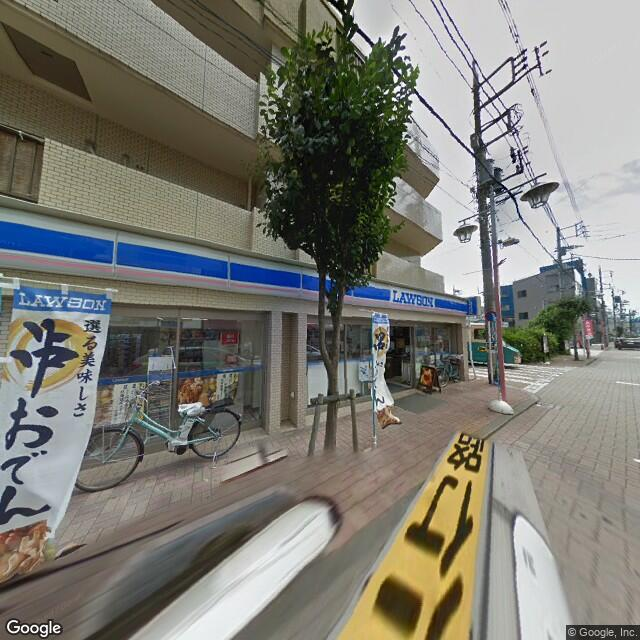lawson: (2, 205, 472, 318)
